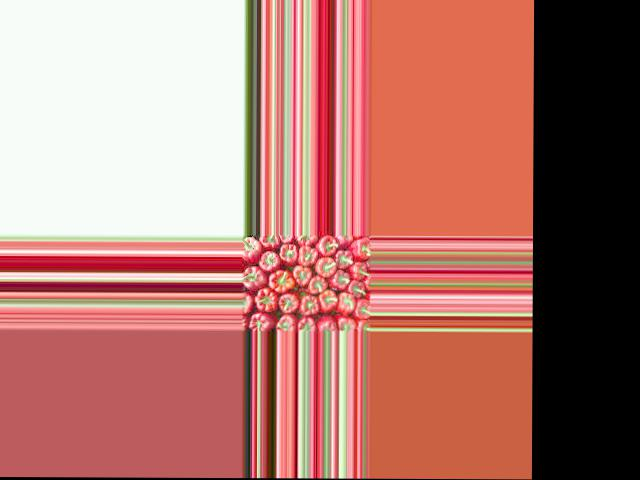bell_pepper: (349, 237, 369, 257)
